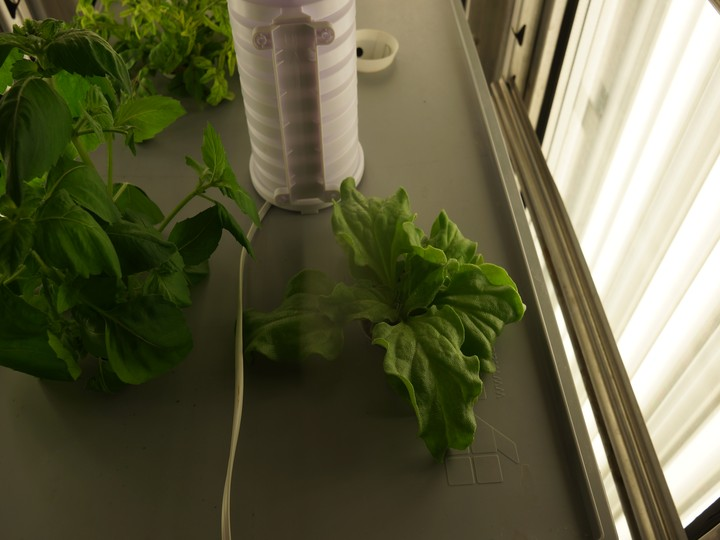basilic_blue_spice: (1, 19, 267, 439)
ficoide_glaciale: (247, 179, 549, 473)
roquette_sauvage_red_veined: (73, 4, 252, 102)
